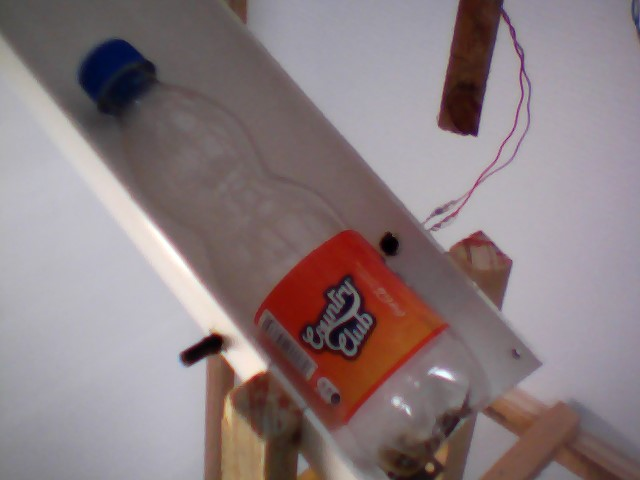plastico: (65, 25, 505, 472)
